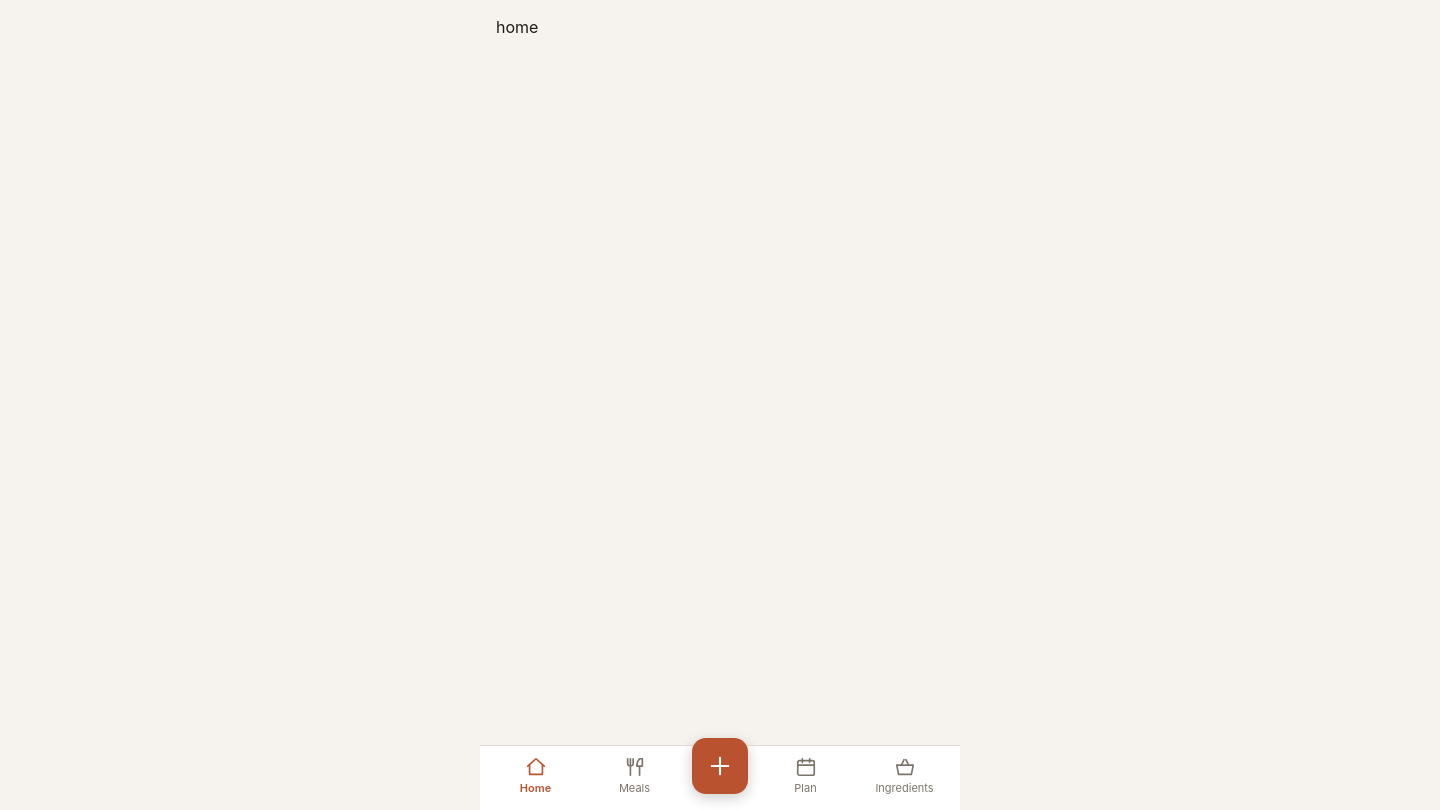
it: AppLayout › opens the Add food sheet from the + button
Click the button named "Add food" at (720, 766), box [692, 738, 748, 794]
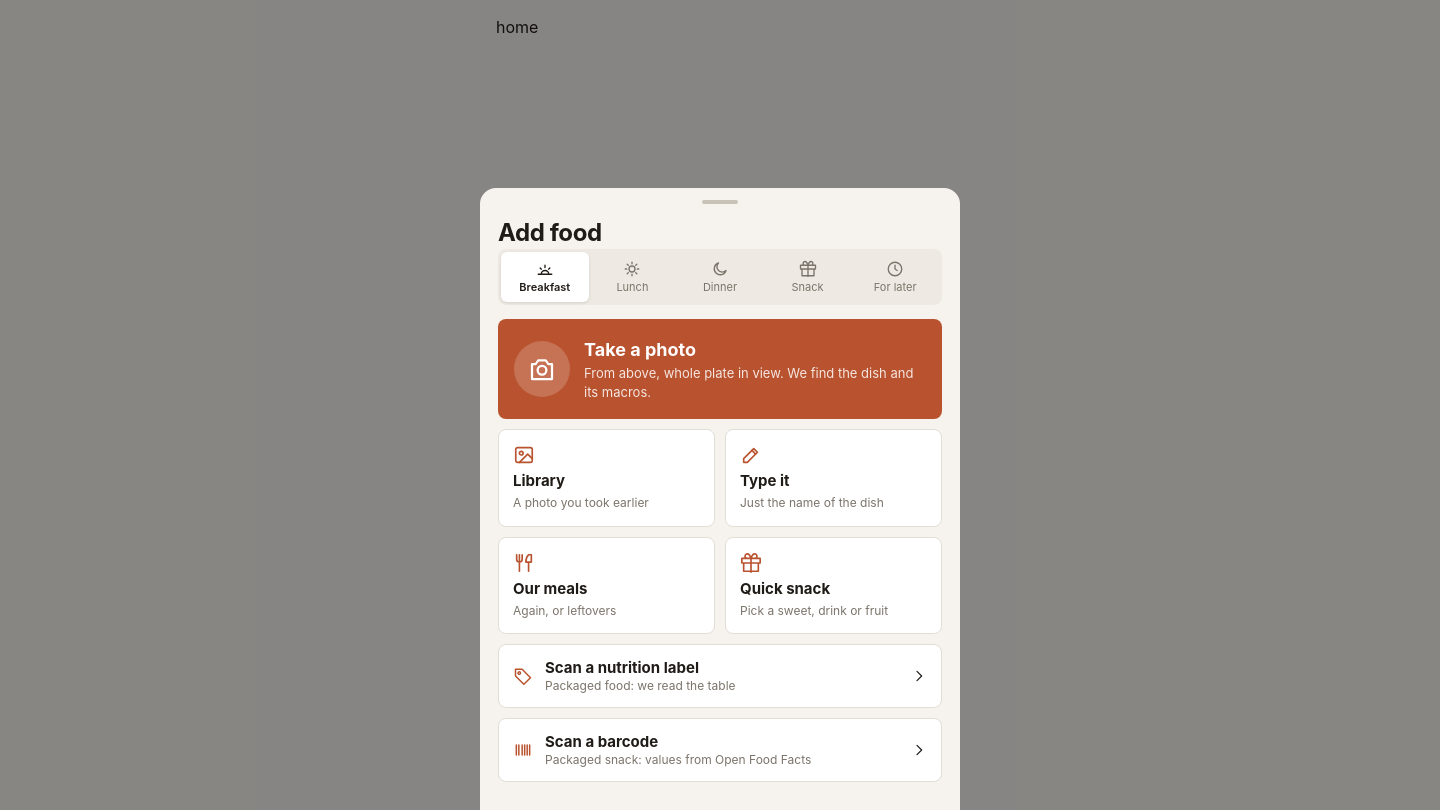
Expected: the dialog "Add food" is shown, [480, 188, 960, 809]
